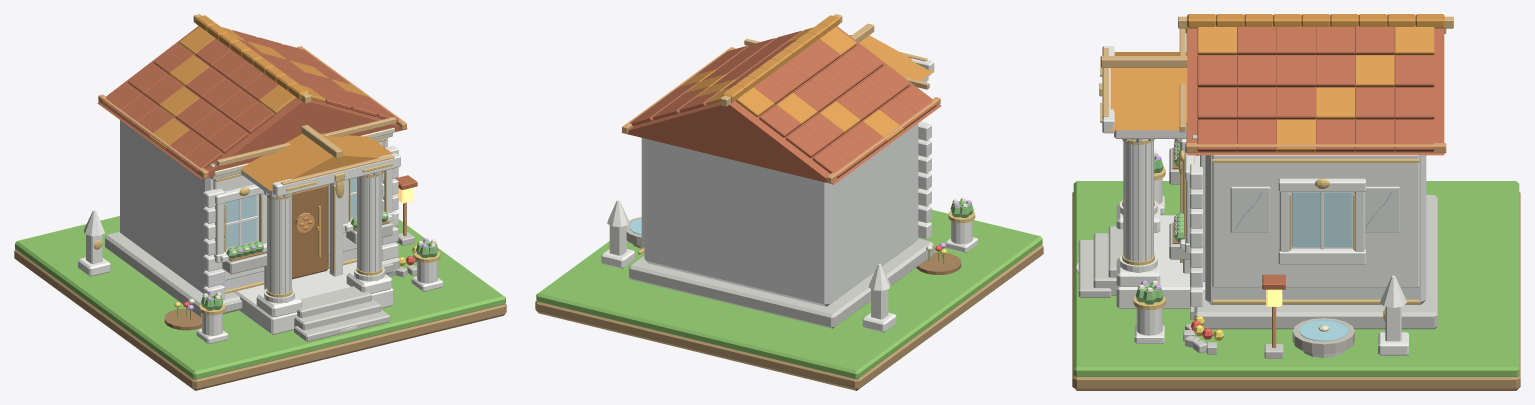
Rendered from villa_l01_active_LOD0.glb.
3 views of the same model, side by side, from view 1: azimuth 30°, elevation 25°; view 2: azimuth 150°, elevation 25°; view 3: azimuth 270°, elevation 25° (orthographic). The views are drawn at different scales.
Visible parts, largest first — view 1: villa_grass_tile, villa_l01_active_v2_marble_core, villa_earth_tile, villa_l01_active_v2_main_gable_roof, villa_l01_active_v2_portico_gable_roof, villa_l01_active_v2_porch_slab, villa_l01_active_v2_entry_door, villa_l01_active_v2_base_stone_block_low_medium_foundation, villa_l01_active_v2_column_-1_shaft, villa_l01_active_v2_column_1_shaft, villa_l01_active_v2_front_window_-1_window_frame, villa_l01_active_v2_stairs_step_2 (+43 smaller); view 2: villa_l01_active_v2_marble_core, villa_grass_tile, villa_l01_active_v2_main_gable_roof, villa_l01_active_v2_base_stone_block_low_medium_foundation, villa_earth_tile, villa_l01_active_v2_portico_gable_roof, villa_l01_active_v2_copper_eave_-1, villa_l01_active_v2_tile_-1_02_05, villa_l01_active_v2_tile_-1_01_05, villa_l01_active_v2_west_bed_round_bed_soil, villa_l01_active_v2_tile_-1_03_05, villa_l01_active_v2_tile_-1_01_01 (+25 smaller); view 3: villa_grass_tile, villa_l01_active_v2_right_marble_cladding, villa_earth_tile, villa_l01_active_v2_base_stone_block_low_medium_foundation, villa_l01_active_v2_portico_gable_roof, villa_l01_active_v2_marble_core, villa_l01_active_v2_side_window_frame, villa_l01_active_v2_column_1_shaft, villa_l01_active_v2_main_gable_roof, villa_l01_active_v2_side_window_glass, villa_l01_active_v2_porch_slab, villa_l01_active_v2_right_veined_panel_-0.34_slab (+50 smaller).
Boxes of the visible parts, <box> form: villa_grass_tile: <box>15,216,505,379</box>; villa_l01_active_v2_marble_core: <box>120,120,385,293</box>; villa_earth_tile: <box>14,249,506,390</box>; villa_l01_active_v2_main_gable_roof: <box>97,26,407,179</box>; villa_l01_active_v2_portico_gable_roof: <box>240,133,392,190</box>; villa_l01_active_v2_porch_slab: <box>234,262,393,334</box>; villa_l01_active_v2_entry_door: <box>292,184,328,279</box>; villa_l01_active_v2_base_stone_block_low_medium_foundation: <box>105,231,400,317</box>; villa_l01_active_v2_column_-1_shaft: <box>267,195,291,294</box>; villa_l01_active_v2_column_1_shaft: <box>357,173,381,272</box>; villa_l01_active_v2_front_window_-1_window_frame: <box>224,194,258,249</box>; villa_l01_active_v2_stairs_step_2: <box>297,286,371,317</box>; villa_l01_active_v2_marble_core: <box>644,123,918,306</box>; villa_grass_tile: <box>536,210,1042,379</box>; villa_l01_active_v2_main_gable_roof: <box>621,26,941,184</box>; villa_l01_active_v2_base_stone_block_low_medium_foundation: <box>629,238,933,328</box>; villa_earth_tile: <box>535,244,1043,390</box>; villa_l01_active_v2_portico_gable_roof: <box>849,35,933,80</box>; villa_l01_active_v2_copper_eave_-1: <box>826,97,940,183</box>; villa_l01_active_v2_tile_-1_02_05: <box>786,125,827,158</box>; villa_l01_active_v2_tile_-1_01_05: <box>759,105,800,137</box>; villa_l01_active_v2_west_bed_round_bed_soil: <box>916,252,961,274</box>; villa_l01_active_v2_tile_-1_03_05: <box>812,145,854,178</box>; villa_l01_active_v2_tile_-1_01_01: <box>826,56,866,89</box>; villa_grass_tile: <box>1073,181,1519,376</box>; villa_l01_active_v2_right_marble_cladding: <box>1212,155,1419,287</box>; villa_earth_tile: <box>1072,192,1520,390</box>; villa_l01_active_v2_base_stone_block_low_medium_foundation: <box>1194,195,1437,329</box>; villa_l01_active_v2_portico_gable_roof: <box>1110,52,1187,130</box>; villa_l01_active_v2_marble_core: <box>1205,155,1426,304</box>; villa_l01_active_v2_side_window_frame: <box>1290,192,1354,248</box>; villa_l01_active_v2_column_1_shaft: <box>1123,139,1153,261</box>; villa_l01_active_v2_main_gable_roof: <box>1187,28,1444,155</box>; villa_l01_active_v2_side_window_glass: <box>1292,192,1352,246</box>; villa_l01_active_v2_porch_slab: <box>1116,215,1205,308</box>; villa_l01_active_v2_right_veined_panel_-0.34_slab: <box>1230,186,1270,232</box>.
Bounding box in the file's own units: 3.6 × 2.5 × 3.6.
